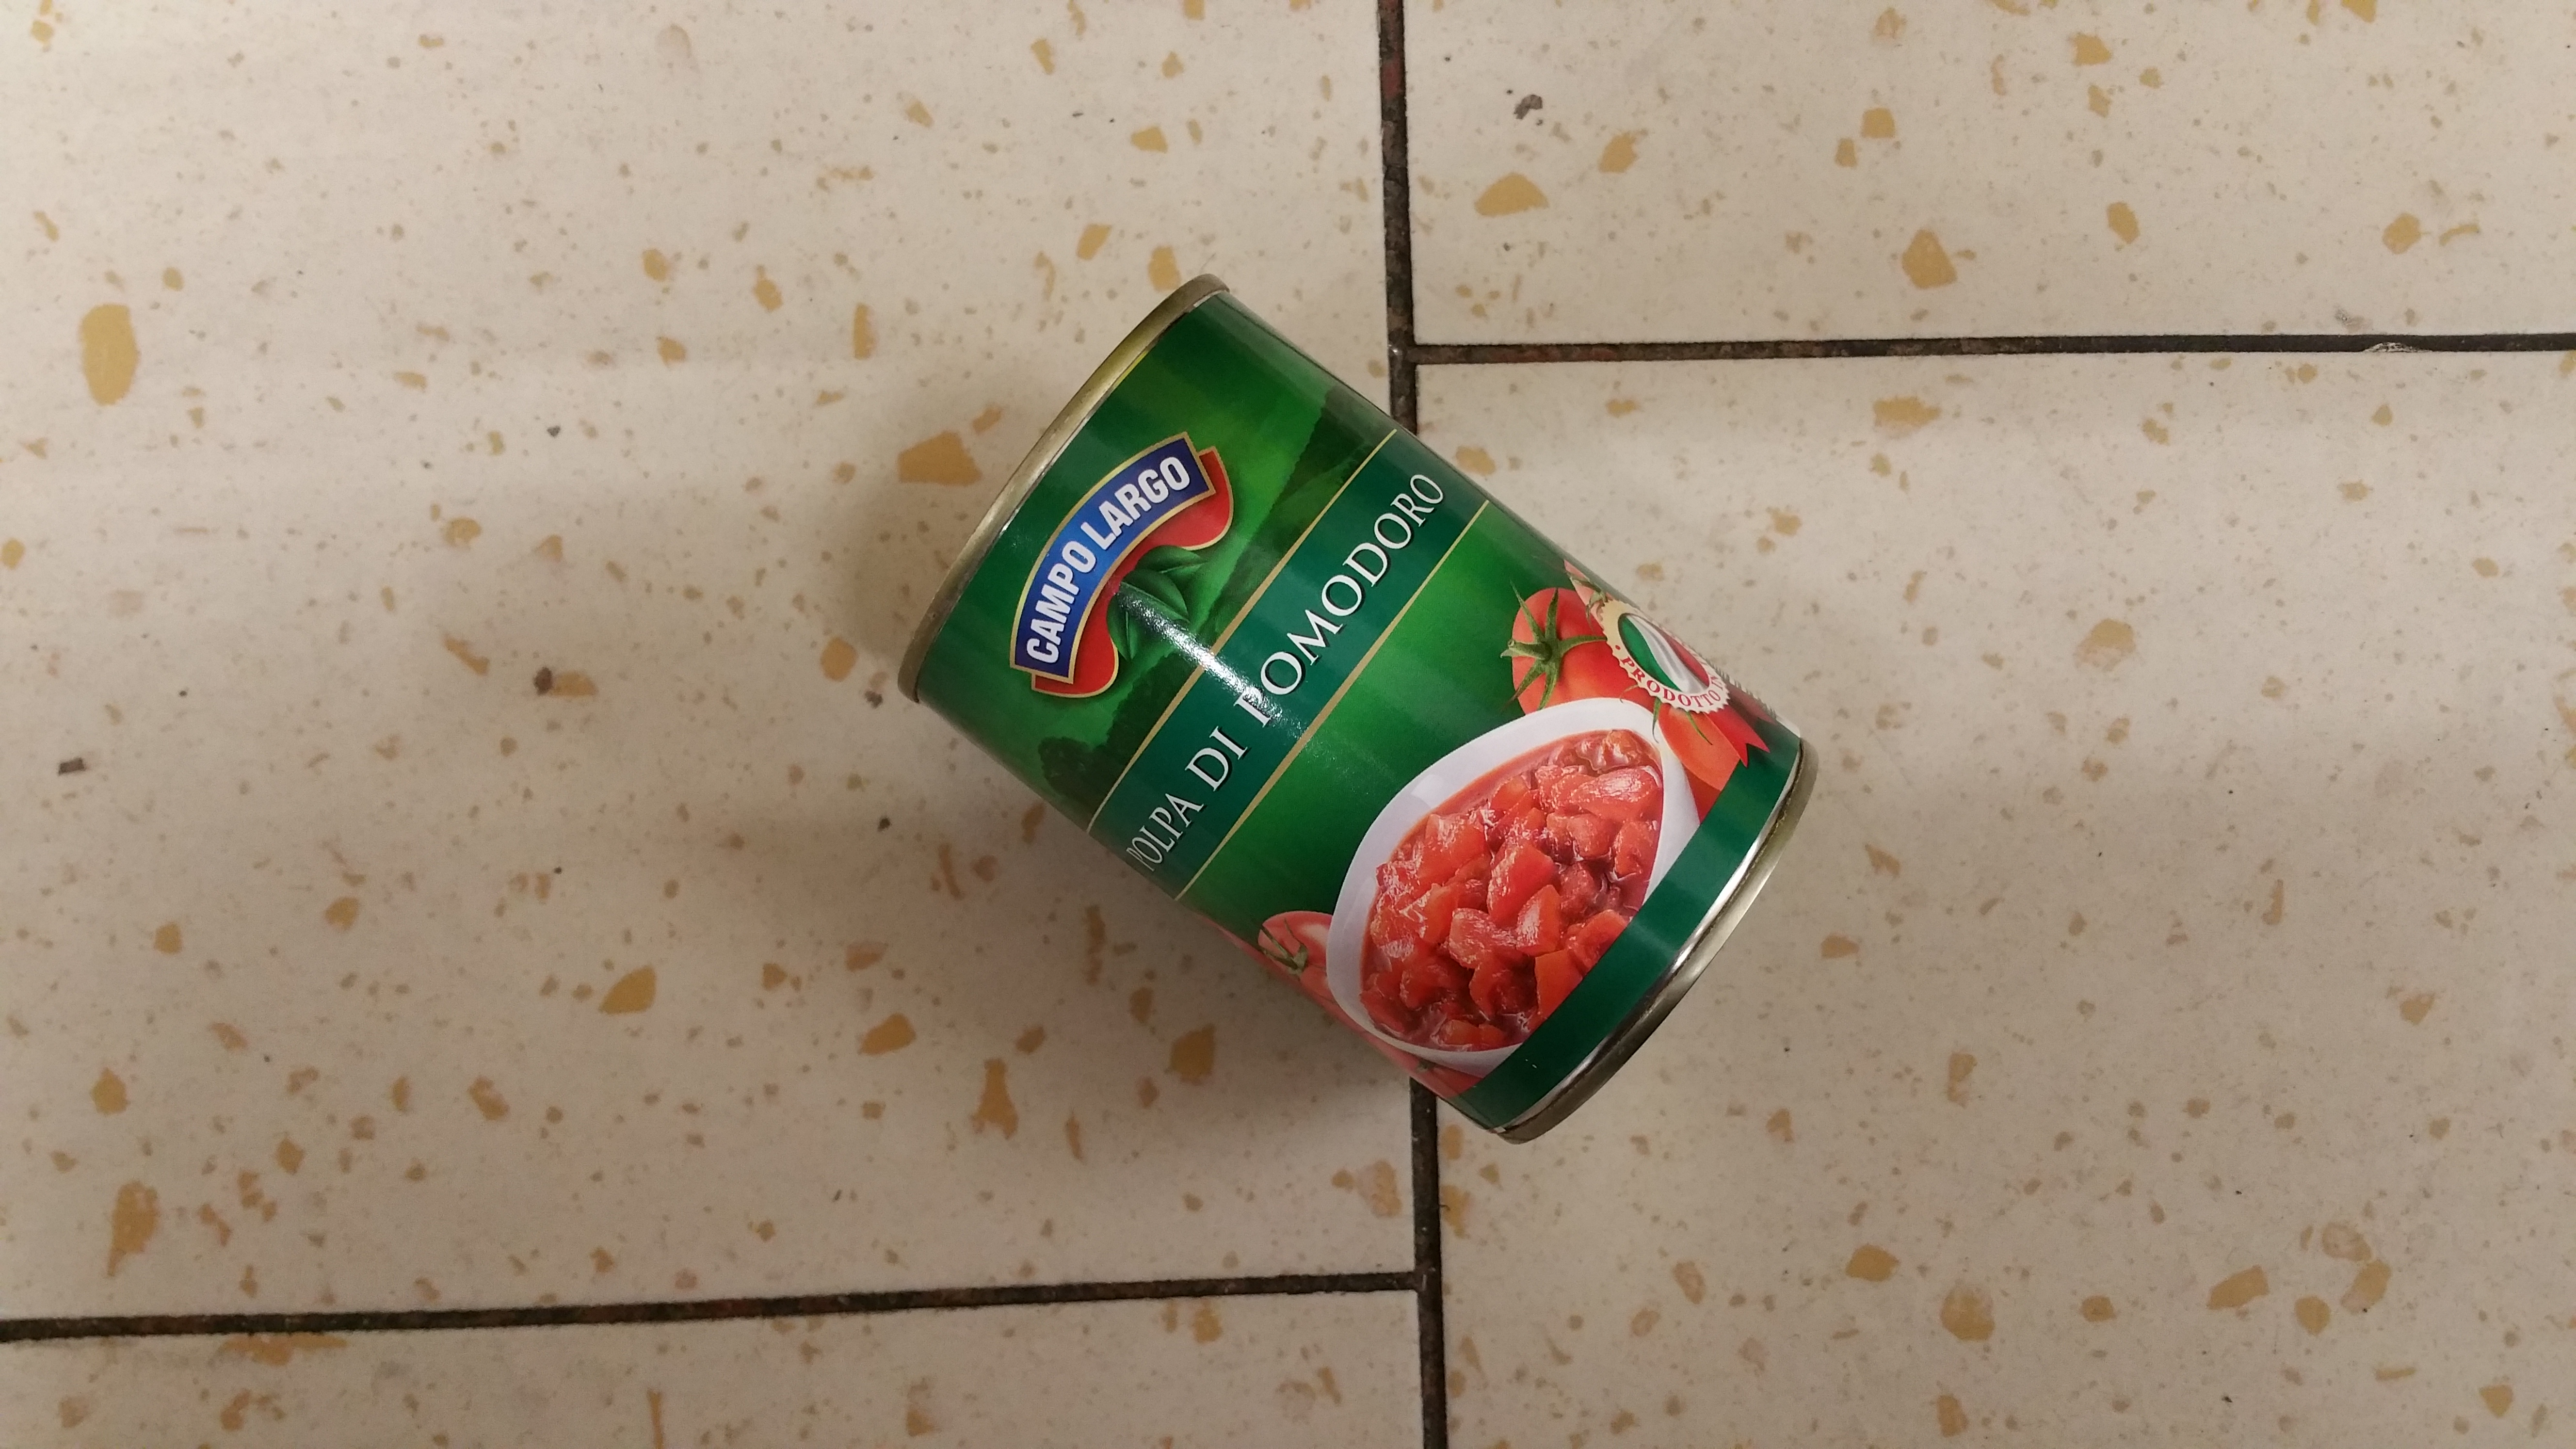metal: (870, 251, 1845, 1185)
